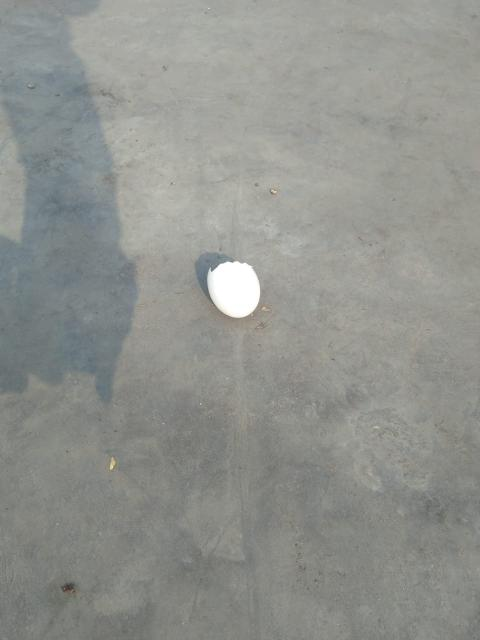Roto: (206, 260, 260, 318)
